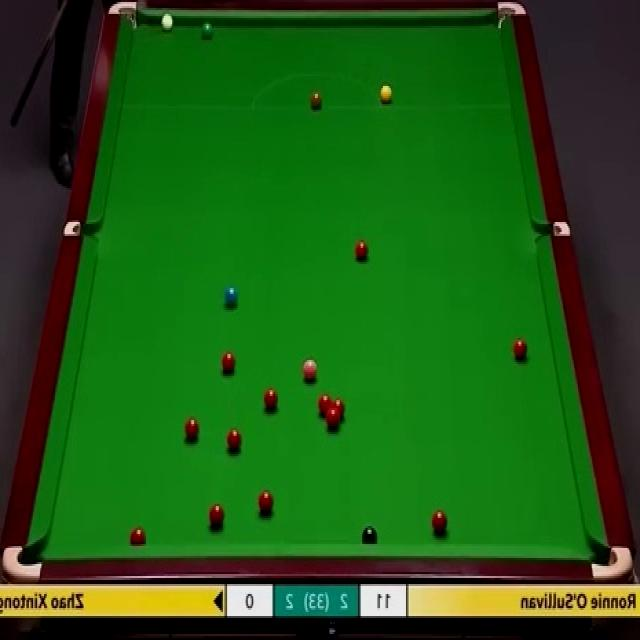black-ball: (360, 525, 378, 546)
blue-ball: (225, 286, 239, 308)
brown-ball: (310, 88, 322, 108)
green-ball: (201, 22, 214, 40)
pink-ball: (301, 359, 318, 384)
red-ball: (182, 415, 200, 442), (264, 385, 282, 411), (432, 508, 449, 535), (208, 504, 225, 530), (220, 349, 236, 375), (258, 490, 274, 516), (225, 428, 241, 454), (514, 335, 528, 360), (332, 398, 346, 422), (318, 393, 331, 418), (356, 237, 368, 264), (129, 526, 147, 543), (324, 411, 340, 430)
white-ball: (161, 13, 173, 28)
yellow-ball: (381, 86, 393, 102)
